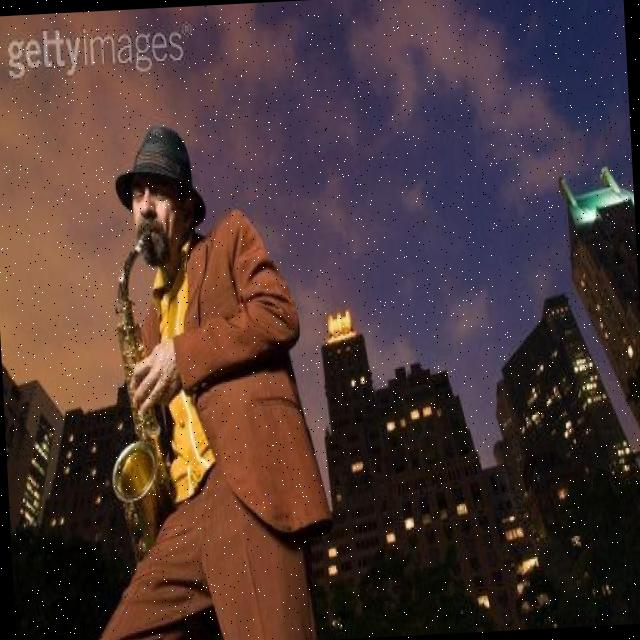saxophone: (97, 225, 182, 560)
